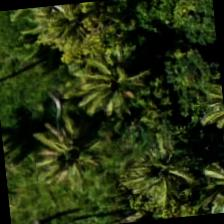Kelapa_Sawit: (0, 91, 99, 190), (60, 24, 158, 124), (125, 121, 223, 221), (18, 0, 115, 82), (181, 149, 223, 217)
